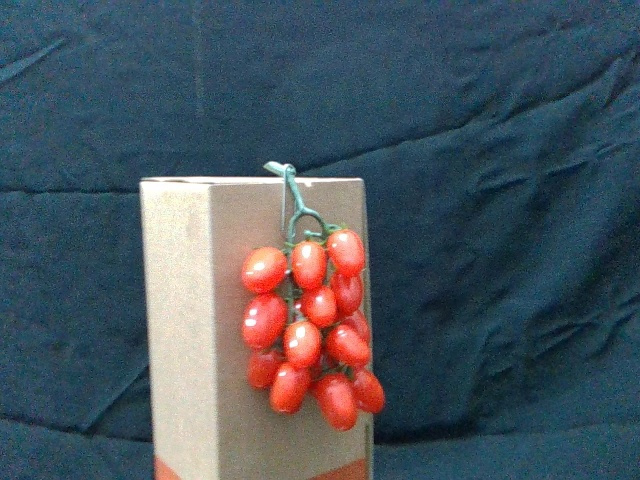tomato: (243, 294, 287, 350), (319, 374, 358, 431), (244, 247, 289, 294), (272, 365, 313, 415), (326, 327, 371, 371), (327, 226, 370, 272), (292, 239, 328, 290), (301, 284, 339, 331), (286, 321, 323, 368), (329, 269, 365, 317), (247, 346, 285, 389), (352, 372, 387, 416)
